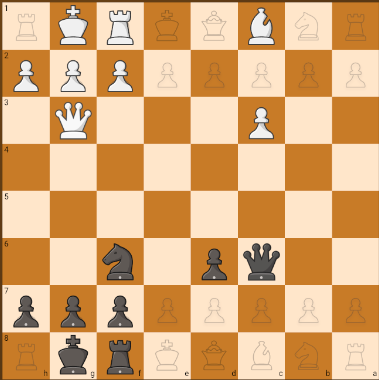bk: (51, 332, 95, 375)
bn: (99, 240, 138, 283)
bp: (4, 288, 43, 329), (196, 243, 232, 282), (102, 291, 137, 330), (55, 291, 89, 330)
bq: (242, 240, 283, 284)
br: (99, 337, 136, 375)
wb: (245, 7, 278, 48)
wk: (53, 4, 93, 47)
wp: (6, 52, 43, 92), (55, 58, 92, 95), (102, 59, 138, 93), (248, 104, 277, 140)
wq: (50, 100, 92, 141)
wr: (101, 7, 138, 48)
